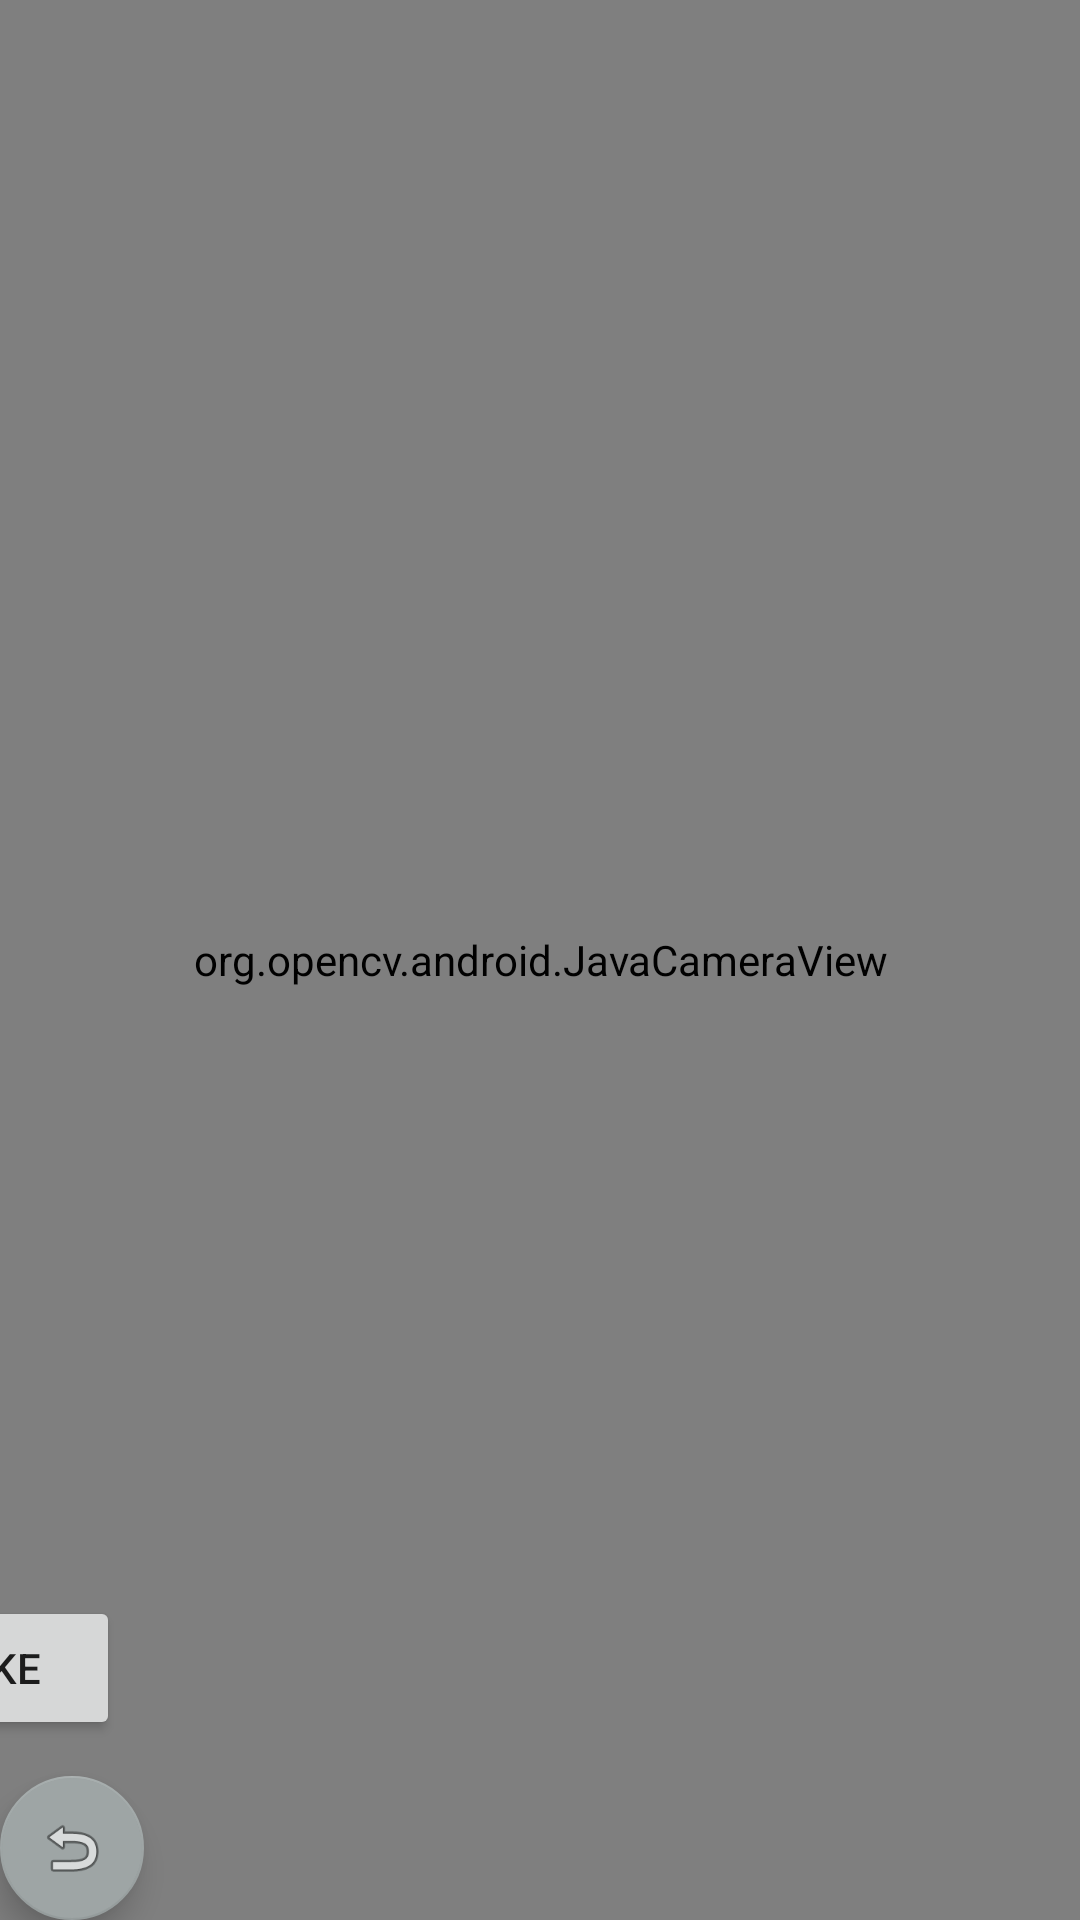

Named icons in this screenshot (1080 x 1920) and their bounding boxes, (x1, y1, x2, y2):
revert: (0, 1776, 144, 1920)
